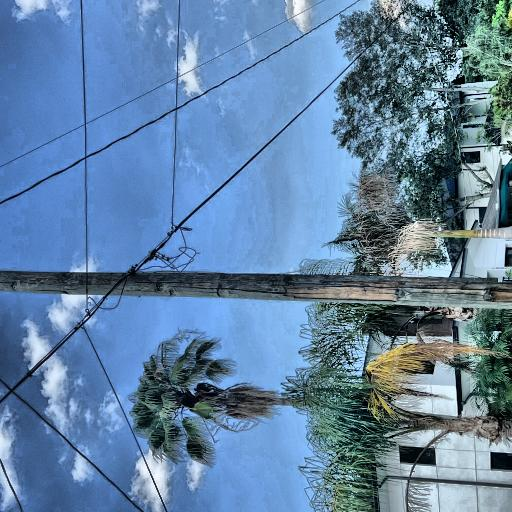pole: (66, 0, 132, 512)
street light: (106, 0, 234, 52)
